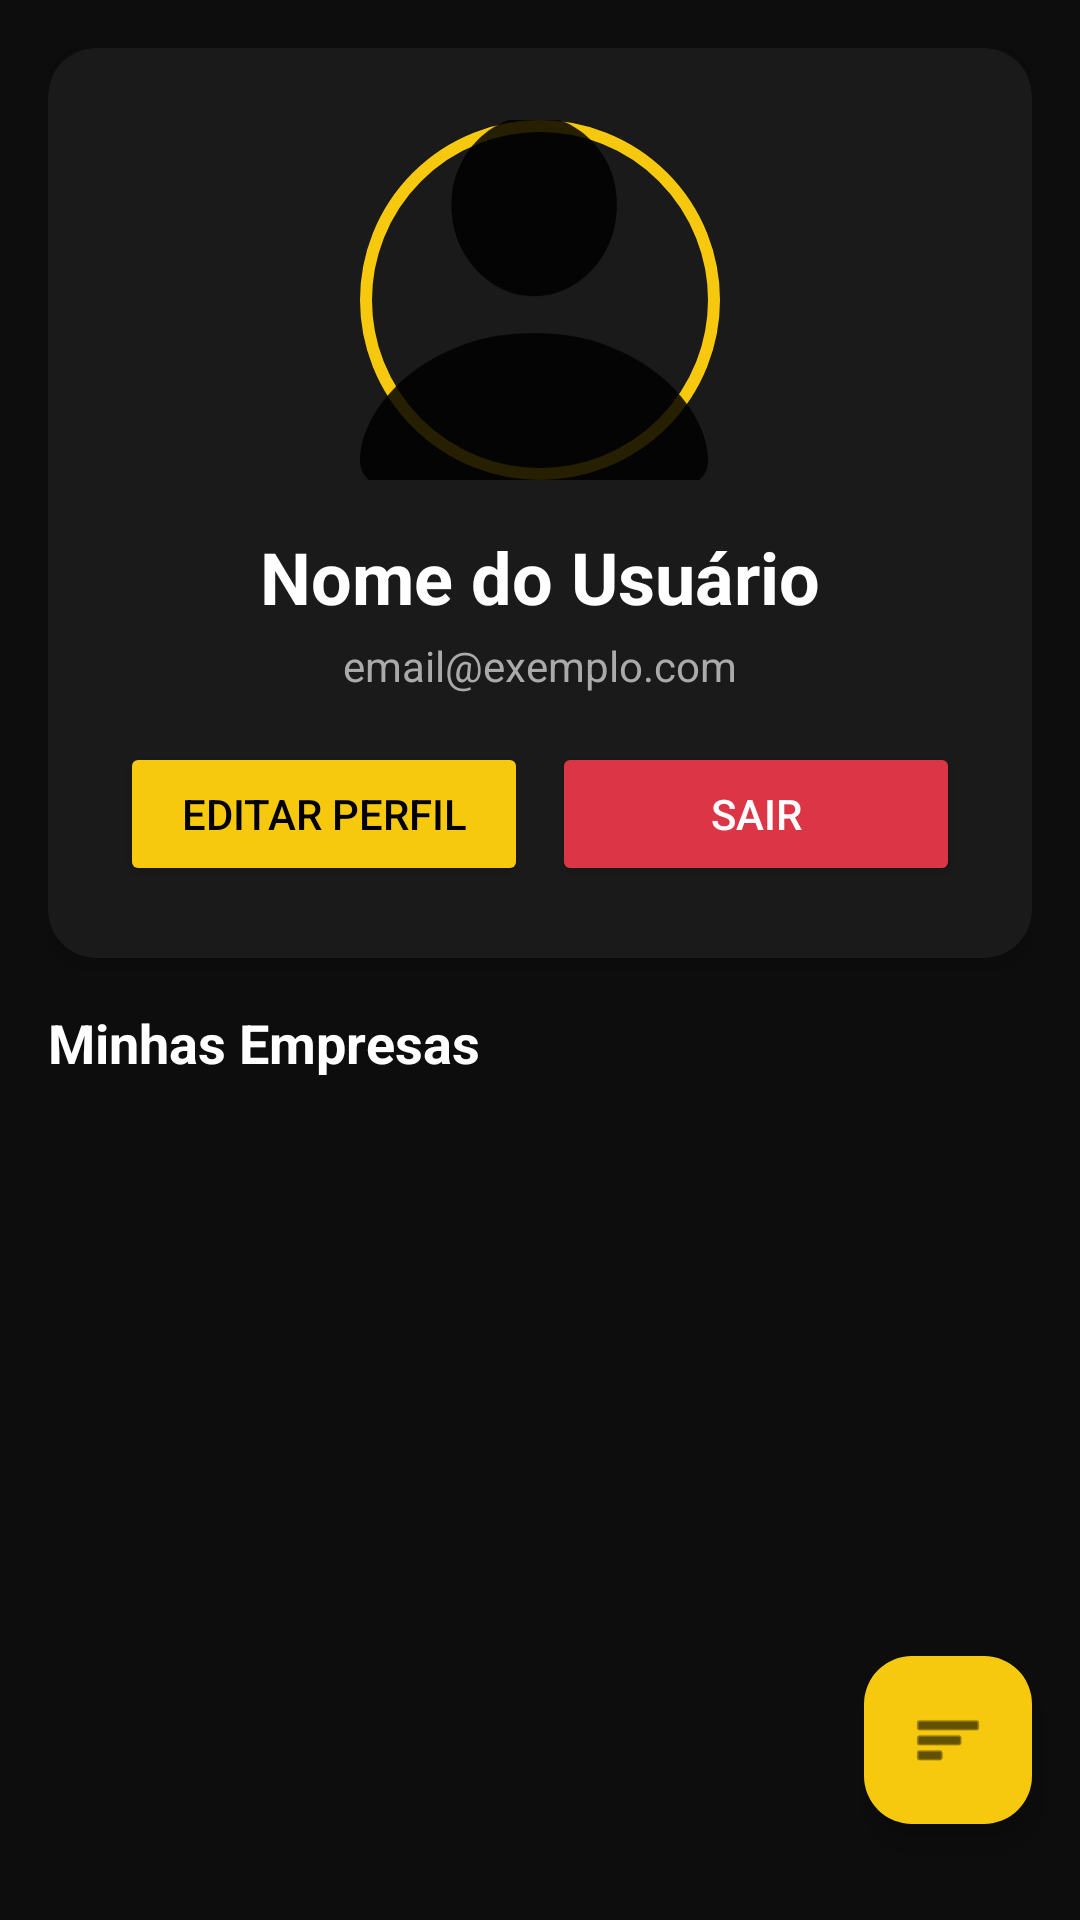

Icons on this 1080 × 1920 Android screen, each with its box as (x1, y1, x2, y2):
Foto de perfil: (360, 121, 720, 404)
Menu empresas: (864, 1656, 1032, 1824)
